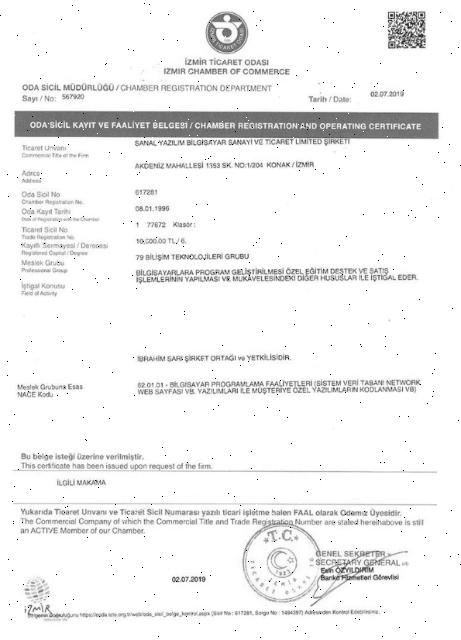stamp: (238, 522, 320, 608)
